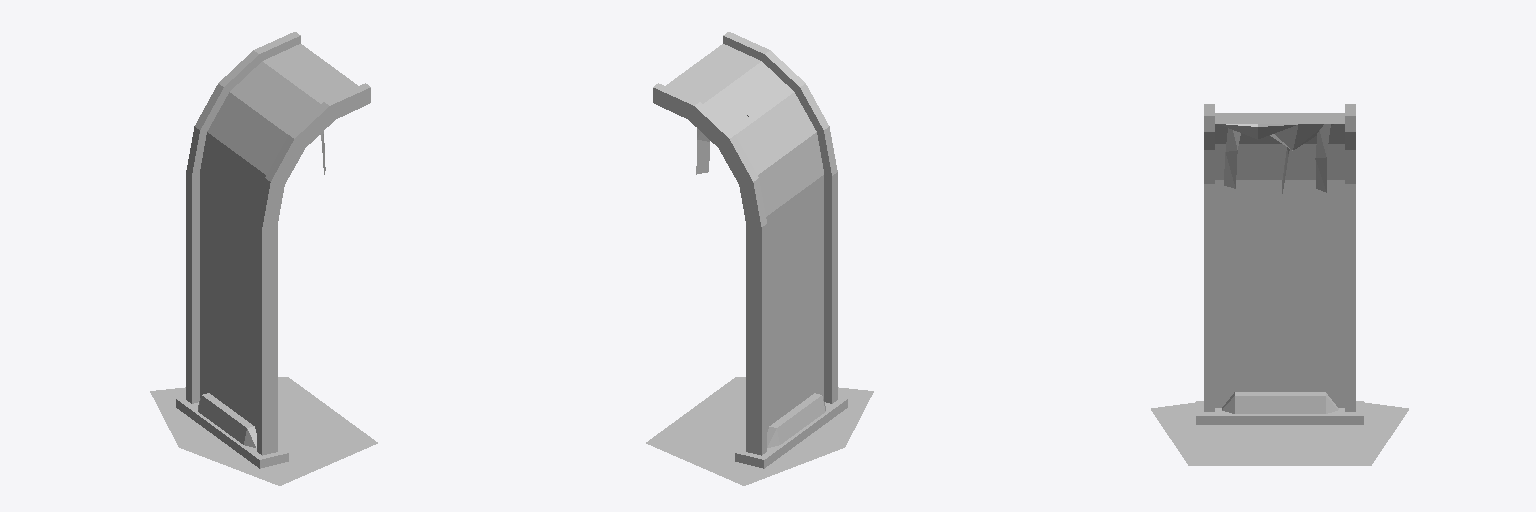
Rendered from Flower Arch.obj.
3 renders of one model, left to right at view 1: azimuth 30°, elevation 25°; view 2: azimuth 150°, elevation 25°; view 3: azimuth 270°, elevation 25°, orthographic.
Visible parts, largest first — view 1: polygon6.002, polygon1.061, polygon2.040, polygon3.013, polygon0.061, polygon4.007; view 2: polygon6.002, polygon1.061, polygon2.040, polygon3.013, polygon0.061, polygon4.007; view 3: polygon1.061, polygon0.061, polygon3.013, polygon6.002, polygon5.003, polygon4.007, polygon2.040.
Boxes of the visible parts, <box> form: polygon6.002: <box>176,32,370,468</box>; polygon1.061: <box>200,132,265,329</box>; polygon2.040: <box>207,44,357,174</box>; polygon3.013: <box>150,377,377,485</box>; polygon0.061: <box>200,289,256,432</box>; polygon4.007: <box>198,393,256,447</box>; polygon6.002: <box>653,32,847,468</box>; polygon1.061: <box>758,132,823,329</box>; polygon2.040: <box>666,44,816,174</box>; polygon3.013: <box>646,377,873,485</box>; polygon0.061: <box>767,289,823,431</box>; polygon4.007: <box>767,393,825,447</box>; polygon1.061: <box>1215,144,1344,293</box>; polygon0.061: <box>1215,294,1344,407</box>; polygon3.013: <box>1151,402,1408,465</box>; polygon6.002: <box>1196,104,1363,424</box>; polygon5.003: <box>1219,124,1333,193</box>; polygon4.007: <box>1222,392,1338,413</box>; polygon2.040: <box>1215,113,1344,143</box>.
Bounding box in the file's own units: 4.68 × 10.3 × 6.82.